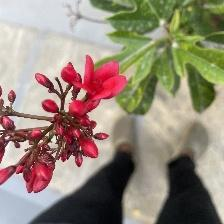jatropha: (76, 56, 130, 104)
